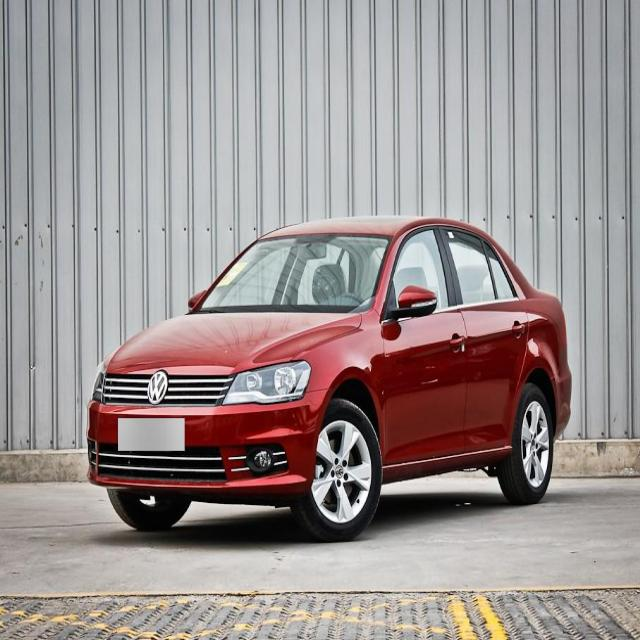door: (439, 222, 528, 450)
front_bumper: (85, 386, 334, 493)
front_glass: (198, 233, 392, 312)
front_left_side_door: (381, 223, 470, 468)
front_left_side_light: (221, 358, 312, 406)
front_left_side_mirror: (382, 284, 438, 321)
front_right_side_light: (89, 359, 103, 402)
front_right_side_mirror: (188, 288, 206, 310)
wheel: (293, 399, 382, 542), (497, 383, 555, 501), (109, 488, 192, 530)
